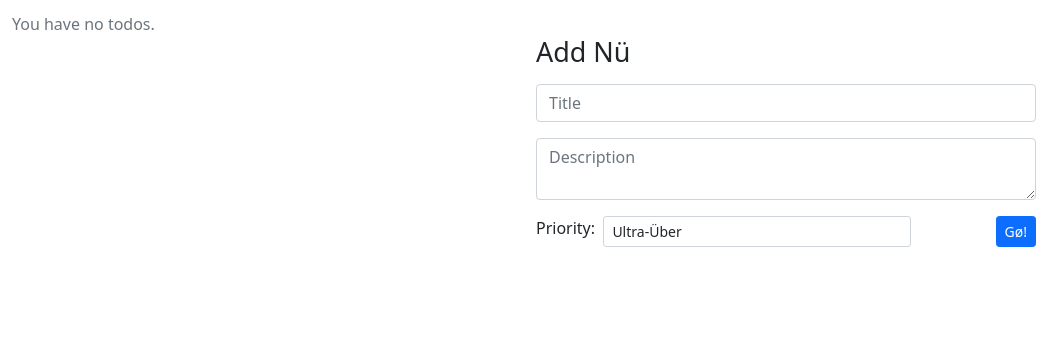
Test: removing todos › can remove a todo
The width and height of the screenshot is (1048, 353).
Select "Über" in the dropdown named "priority" at (757, 232), box [603,216,911,247]
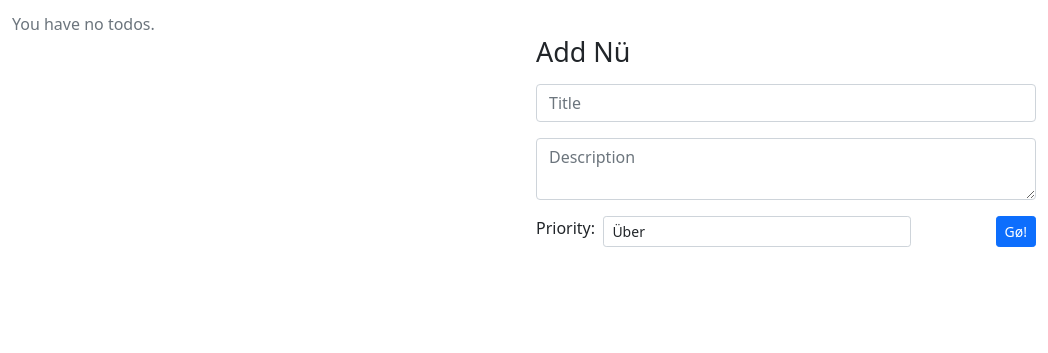
Type "descTodo" into the text box named "description".
click(786, 169); type("descTodo")  # box [536,138,1036,200]
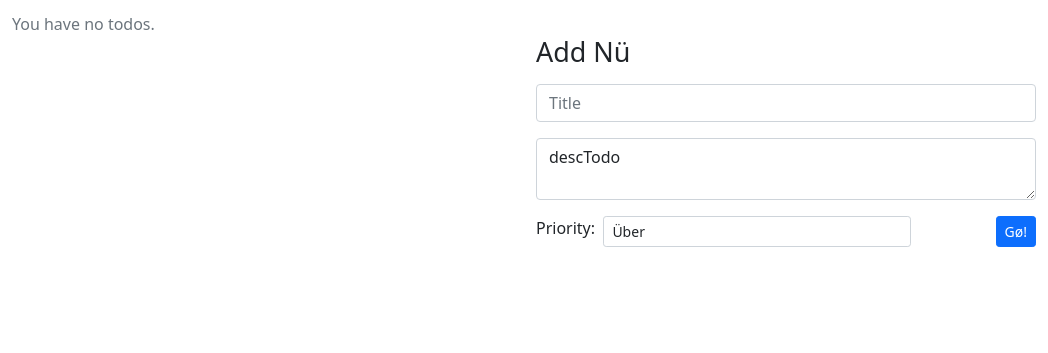
Type "testTodo" into the field named "title".
click(786, 103); type("testTodo")  # box [536,84,1036,122]
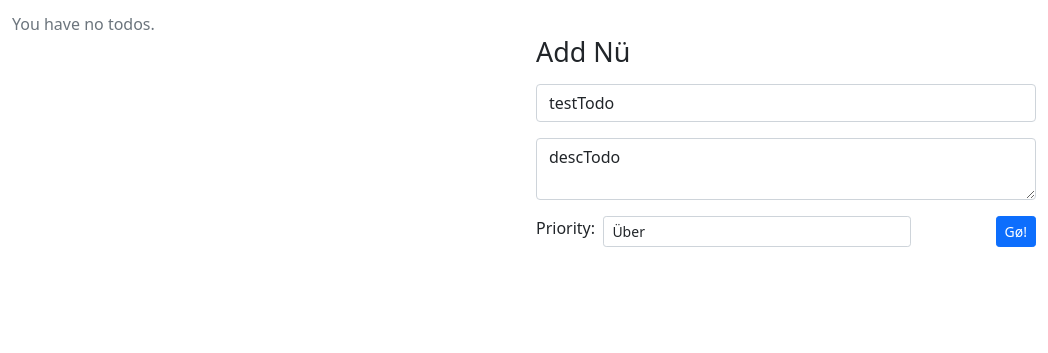
Click the button with class "NewTodoForm-addBtn".
click(1016, 232)  # box [996,216,1036,247]
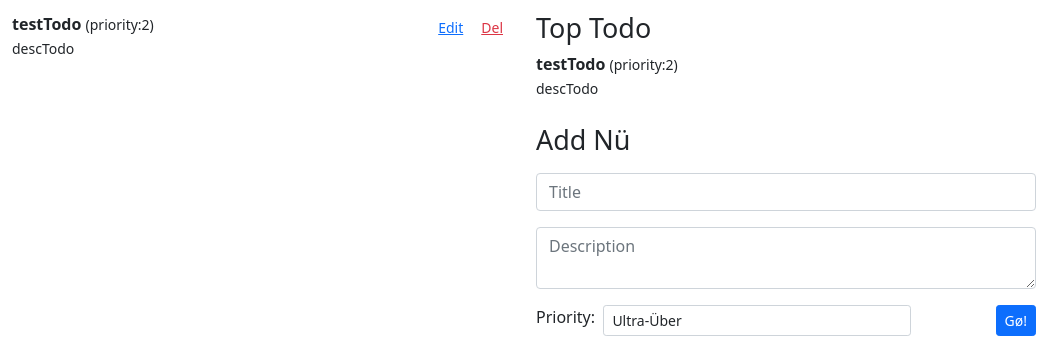
Click the button with class "Delete".
click(492, 28)  # box [472,12,512,43]
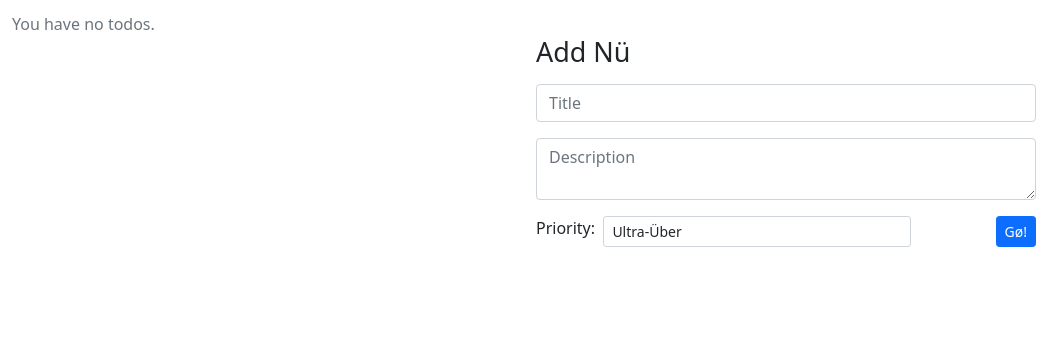
Now the text "You have no todos." is shown, box [12,13,155,35]
